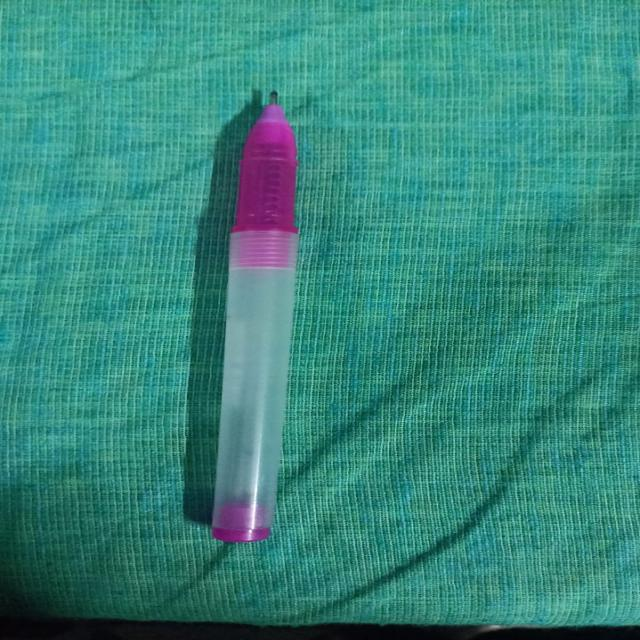pen: (185, 84, 301, 550)
